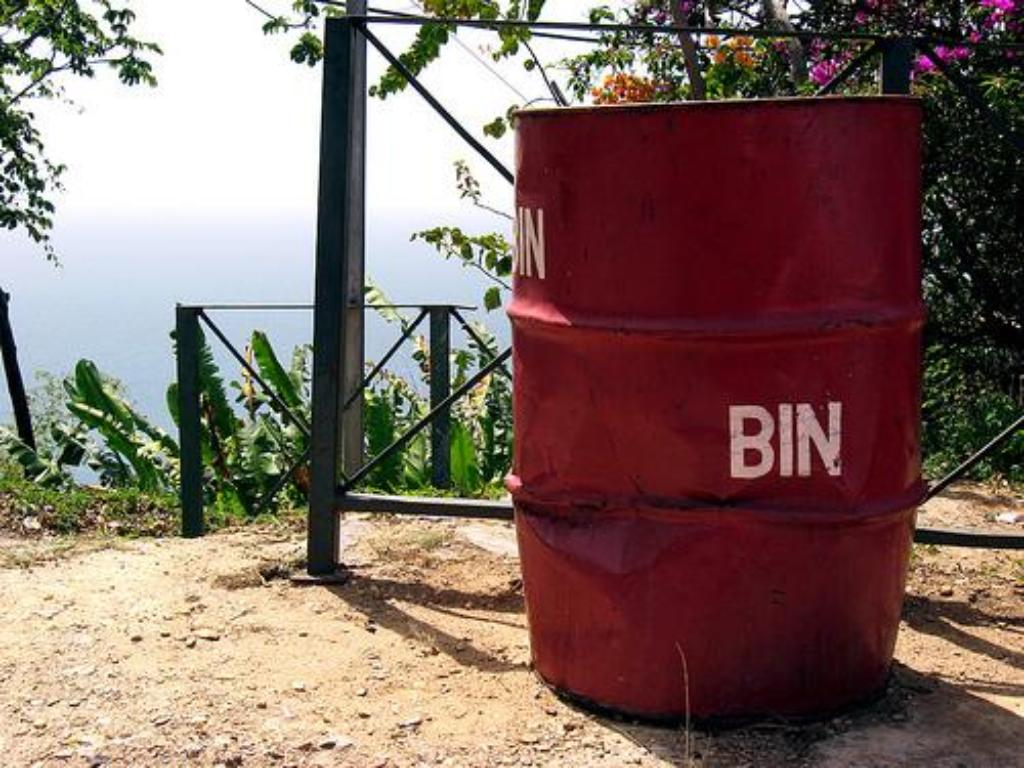dustbin: (512, 107, 932, 741)
